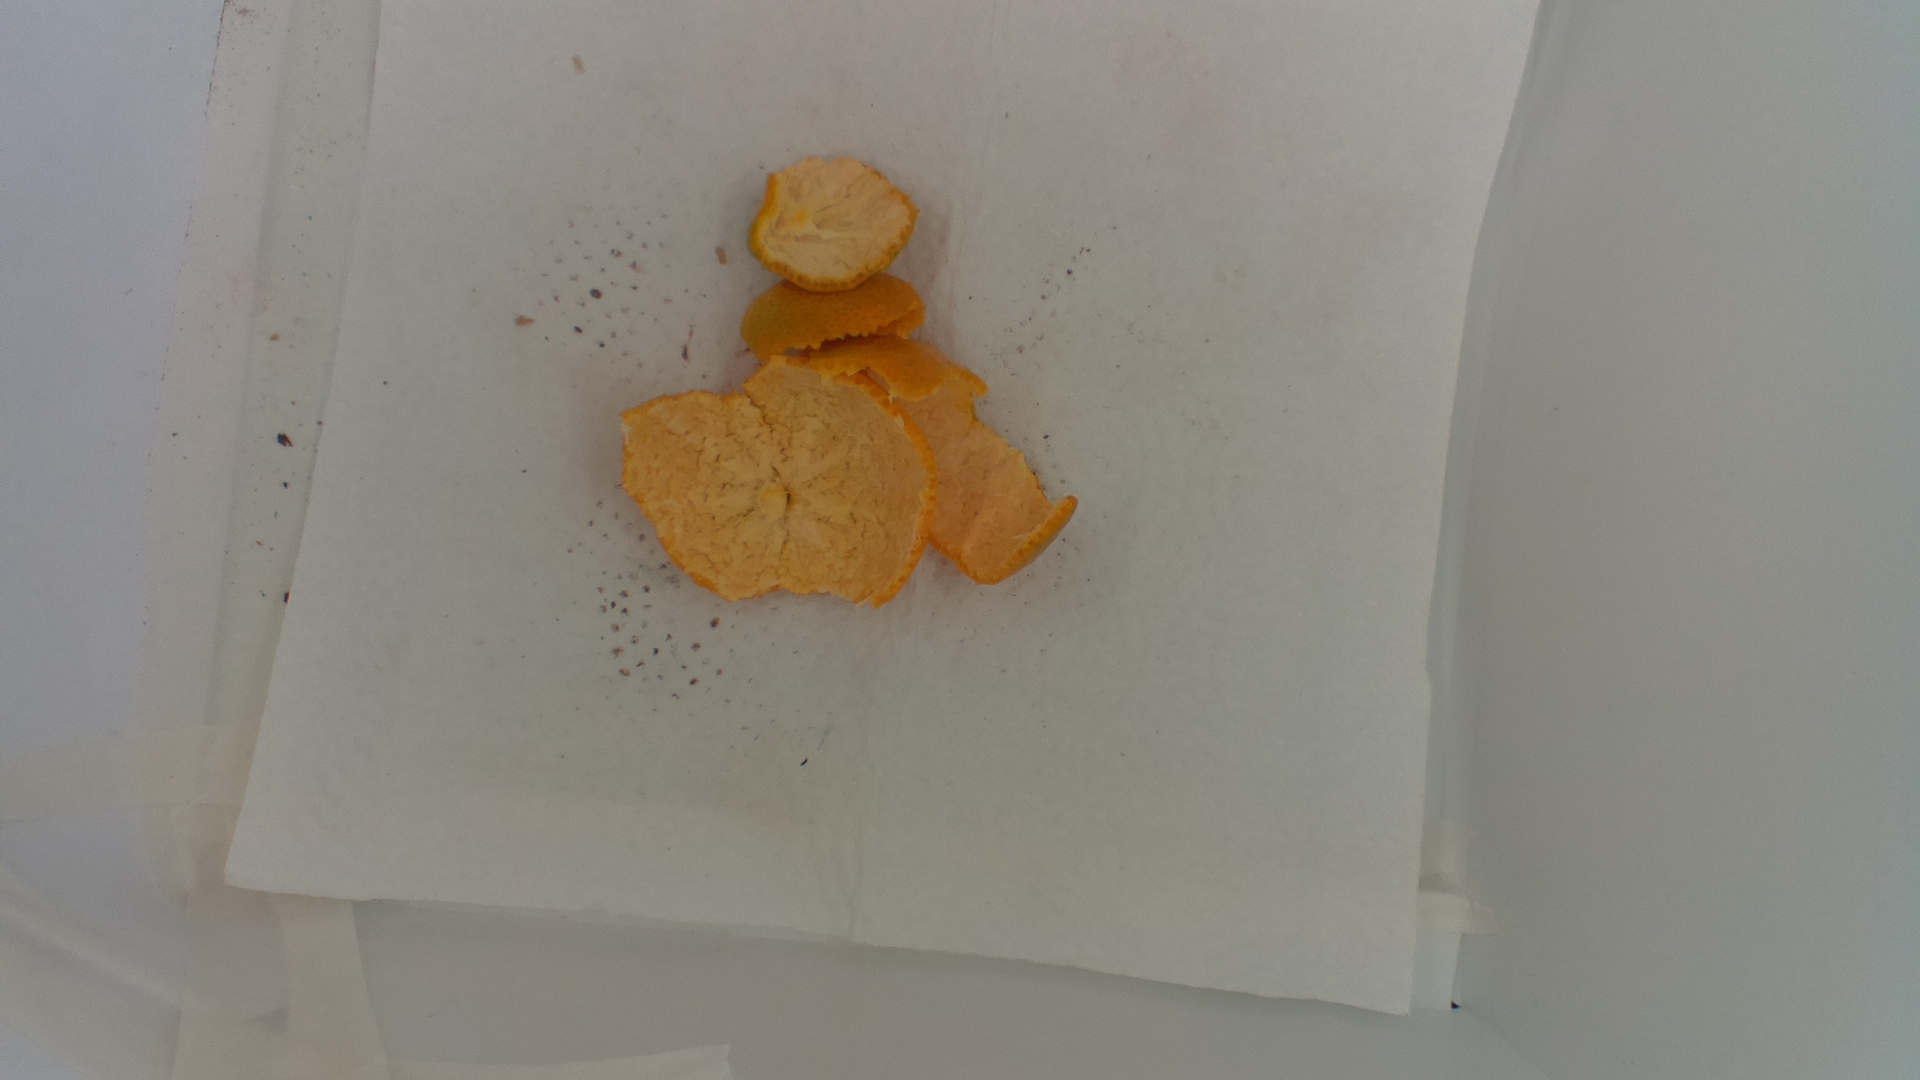fruit: (615, 150, 1084, 616)
